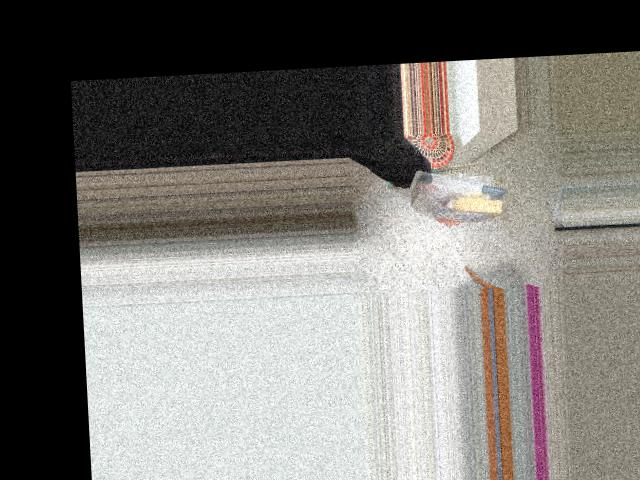cheese: (410, 162, 508, 226)
